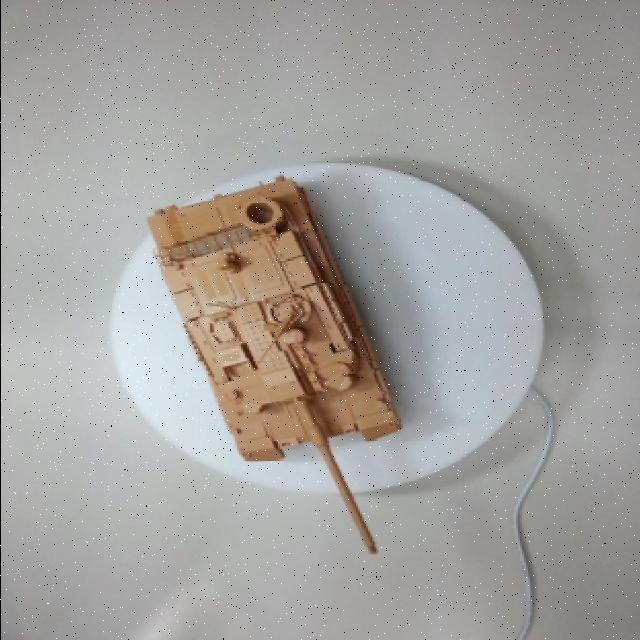korea tank: (123, 134, 439, 557)
